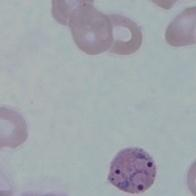Infected: (108, 147, 157, 194)
Uninfected: (68, 3, 113, 55), (97, 13, 144, 55)
